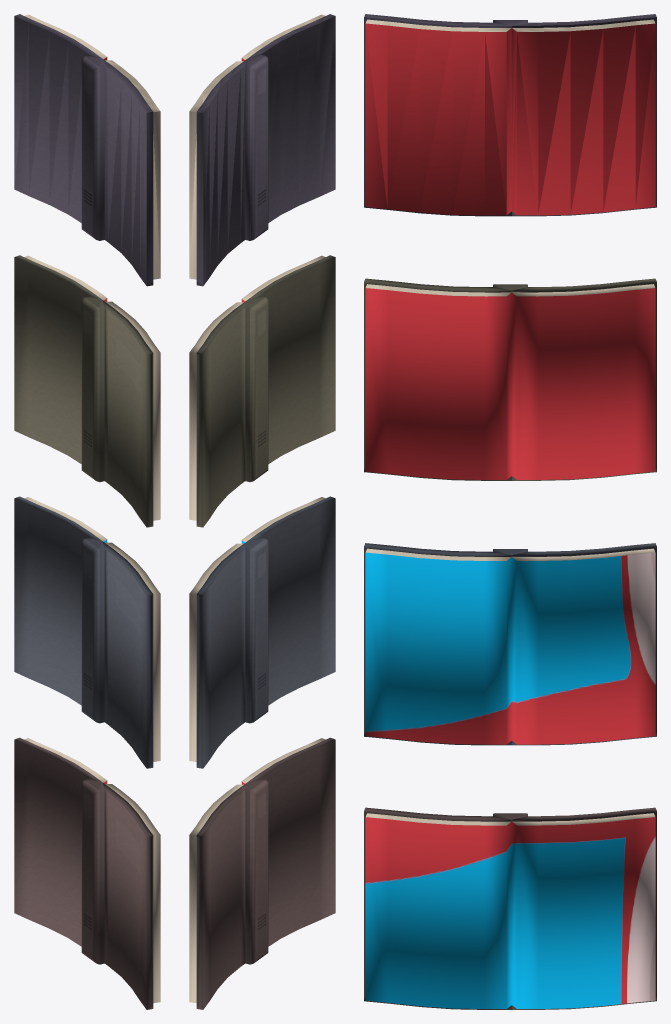
File: Books.fbx
The picture shows the model from 3 angles, left to right: view 1: azimuth 30°, elevation 25°; view 2: azimuth 150°, elevation 25°; view 3: azimuth 270°, elevation 25°; orthographic projection. The views are drawn at different scales.
Visible parts, largest first — view 1: BookA_04, BookA_01, BookA_03, BookA_02; view 2: BookA_01, BookA_04, BookA_03, BookA_02; view 3: BookA_02, BookA_04, BookA_03, BookA_01.
Boxes of the visible parts, x1,y1,x2,y2 form: BookA_04: (14,14,160,286); BookA_01: (14,737,160,1009); BookA_03: (14,255,160,527); BookA_02: (14,496,160,768); BookA_01: (189,737,335,1009); BookA_04: (189,14,335,286); BookA_03: (189,255,335,527); BookA_02: (189,496,335,768); BookA_02: (364,543,656,745); BookA_04: (364,14,656,216); BookA_03: (364,278,656,480); BookA_01: (364,807,656,1009).
Size of the model in its own units: 0.0967 by 2.79 by 0.7524.
